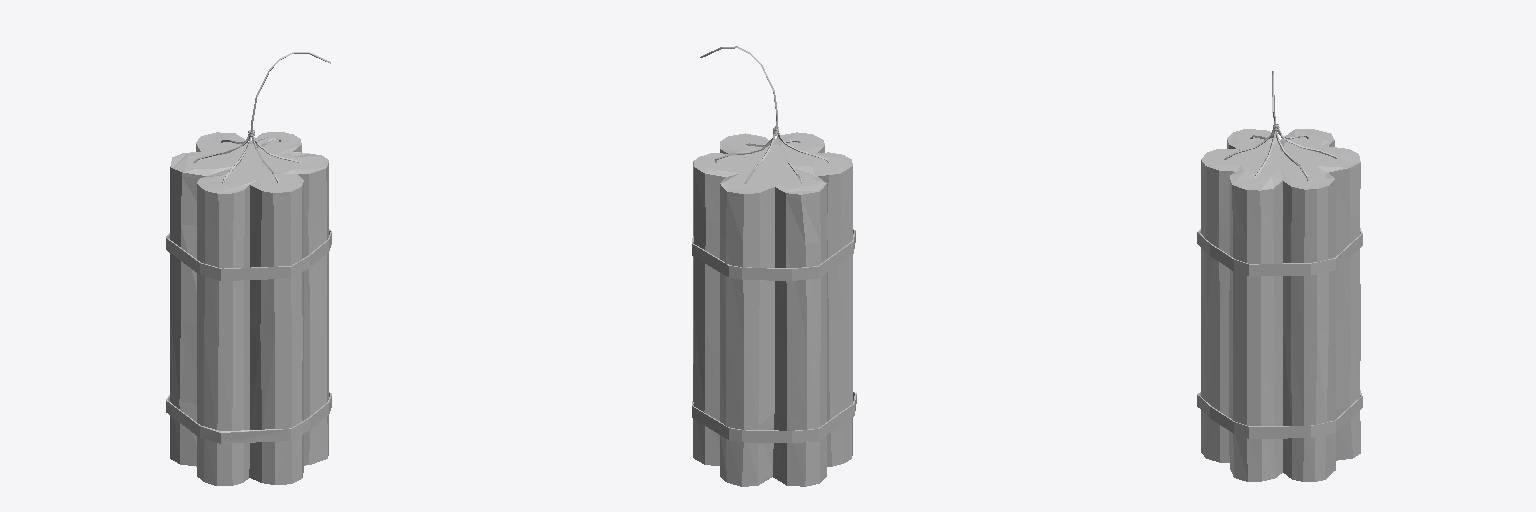
The model's file is dinamite.obj.
3 views of the same model, side by side, from view 1: azimuth 30°, elevation 25°; view 2: azimuth 150°, elevation 25°; view 3: azimuth 270°, elevation 25° (orthographic).
Visible parts, largest first — view 1: dinamite_Plane.001; view 2: dinamite_Plane.001; view 3: dinamite_Plane.001.
Part boxes in pixels (x1,y1,x2,y2): dinamite_Plane.001: (166, 52, 331, 485); dinamite_Plane.001: (692, 46, 856, 486); dinamite_Plane.001: (1197, 71, 1362, 481).
Bounding box in the file's own units: 10.22 × 27.11 × 10.23.